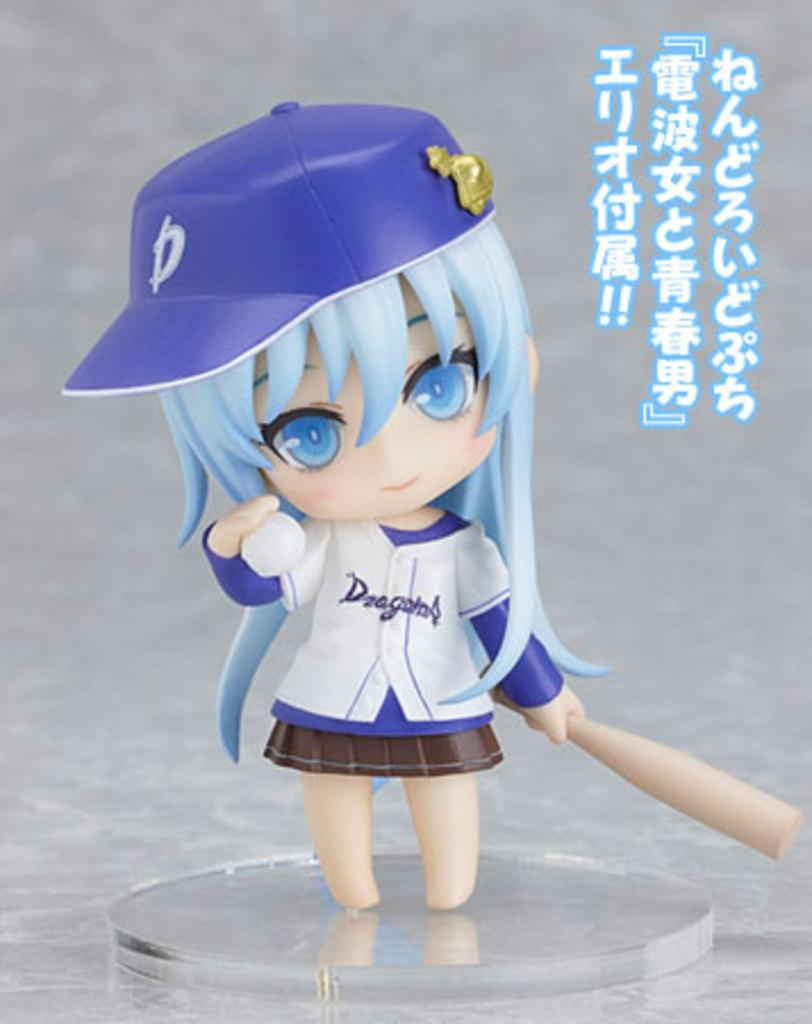Hat: (58, 95, 500, 398)
